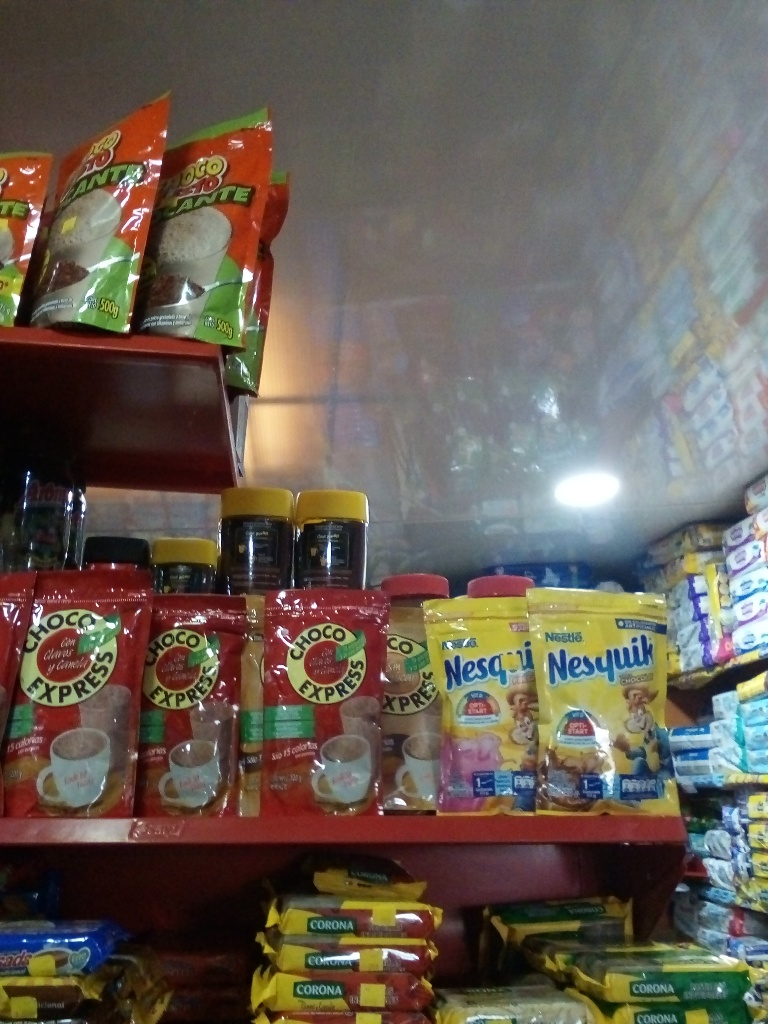COL0170102DYP50000: (44, 90, 153, 340)
COL0170303DYP20000: (522, 582, 683, 816)
